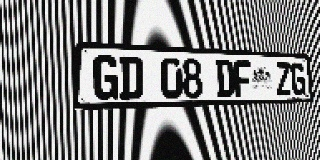0: (160, 57, 182, 99)
8: (182, 58, 203, 98)
D: (119, 56, 143, 100), (215, 59, 234, 97)
F: (233, 60, 252, 97)
G: (93, 55, 118, 100), (290, 62, 306, 96)
Z: (275, 62, 292, 96)
